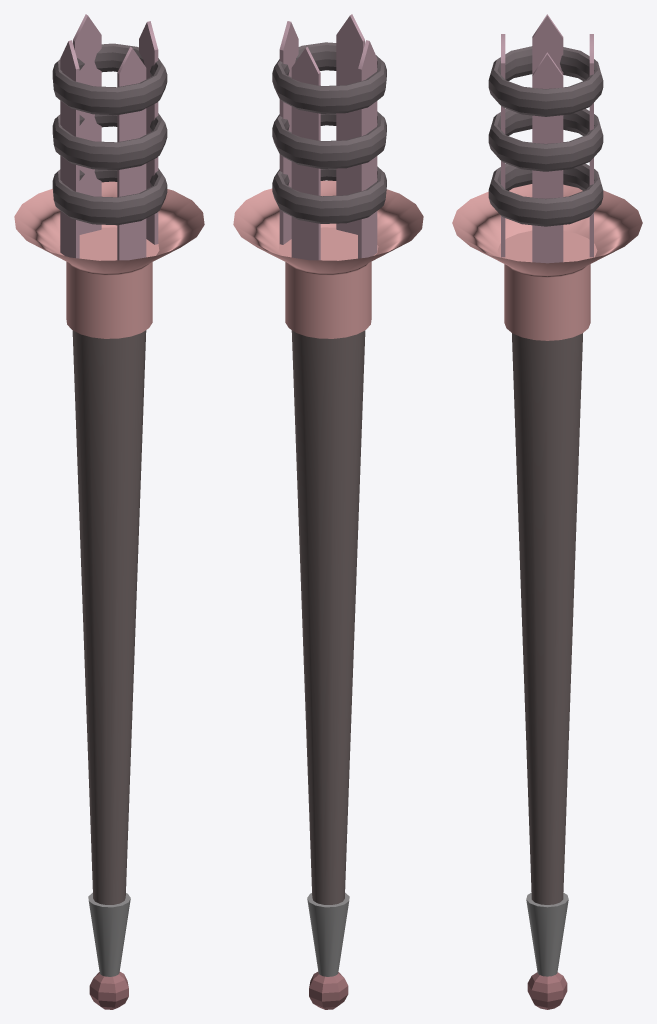
The model's file is LowPolyTorch.fbx.
3 views of the same model, side by side, from view 1: azimuth 30°, elevation 25°; view 2: azimuth 150°, elevation 25°; view 3: azimuth 270°, elevation 25° (orthographic).
Parts seen in each view (by area): view 1: pCylinder1, pCylinder2, pTorus1, pTorus2, pTorus3, pCube1, pCube2, pCube3, pCylinder3, pCube4, pSphere1; view 2: pCylinder1, pCylinder2, pTorus1, pTorus2, pTorus3, pCube2, pCube1, pCube3, pCylinder3, pCube4, pSphere1; view 3: pCylinder1, pCylinder2, pTorus1, pTorus3, pTorus2, pCube4, pCylinder3, pCube3, pSphere1, pCube1, pCube2.
Part boxes in pixels (<box>): pCylinder1: <box>72,330,146,904</box>; pCylinder2: <box>14,181,204,338</box>; pTorus1: <box>52,43,167,114</box>; pTorus2: <box>52,113,167,170</box>; pTorus3: <box>52,168,167,225</box>; pCube1: <box>117,47,146,260</box>; pCube2: <box>73,14,101,234</box>; pCube3: <box>60,40,79,258</box>; pCylinder3: <box>88,892,130,976</box>; pCube4: <box>139,21,158,244</box>; pSphere1: <box>89,971,128,1009</box>; pCylinder1: <box>291,330,365,904</box>; pCylinder2: <box>233,180,423,338</box>; pTorus1: <box>272,42,386,113</box>; pTorus2: <box>272,111,386,168</box>; pTorus3: <box>272,166,386,223</box>; pCube2: <box>291,47,320,260</box>; pCube1: <box>336,14,364,234</box>; pCube3: <box>358,40,377,258</box>; pCylinder3: <box>307,892,349,976</box>; pCube4: <box>279,21,298,244</box>; pSphere1: <box>309,971,348,1009</box>; pCylinder1: <box>512,333,582,904</box>; pCylinder2: <box>452,184,642,340</box>; pTorus1: <box>488,46,603,116</box>; pTorus3: <box>488,163,603,226</box>; pTorus2: <box>488,108,603,171</box>; pCube4: <box>532,52,563,263</box>; pCylinder3: <box>526,892,568,976</box>; pCube3: <box>532,14,563,74</box>; pSphere1: <box>527,972,567,1009</box>; pCube1: <box>501,34,505,257</box>; pCube2: <box>589,34,593,257</box>.
Size of the model in its own units: 2.13 by 11.98 by 2.13.
